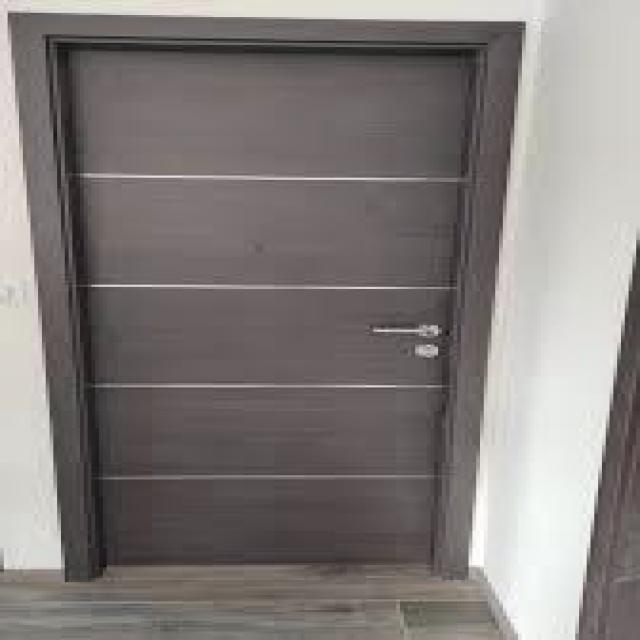door: (51, 36, 483, 578)
